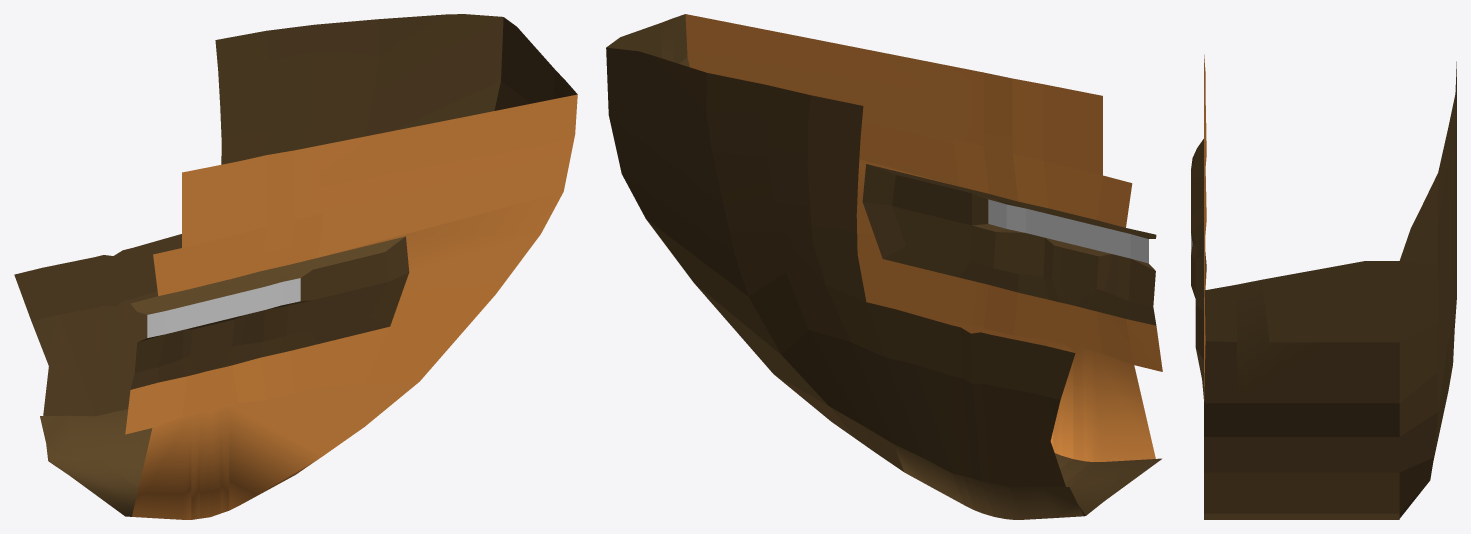
Rendered from lutePiece2.fbx.
3 renders of one model, left to right at view 1: azimuth 30°, elevation 25°; view 2: azimuth 150°, elevation 25°; view 3: azimuth 270°, elevation 25°, orthographic. The views are drawn at different scales.
Parts seen in each view (by area): view 1: Cube_cell; view 2: Cube_cell; view 3: Cube_cell.
Part boxes in pixels (box(x1,y1,x2,y2)): Cube_cell: box(14, 14, 577, 519); Cube_cell: box(606, 14, 1162, 519); Cube_cell: box(1191, 54, 1456, 519).
Size of the model in its own units: 35.76 by 27.87 by 13.51.
